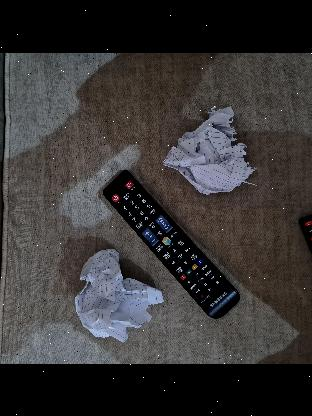Others: (74, 242, 158, 348), (163, 107, 253, 199)
